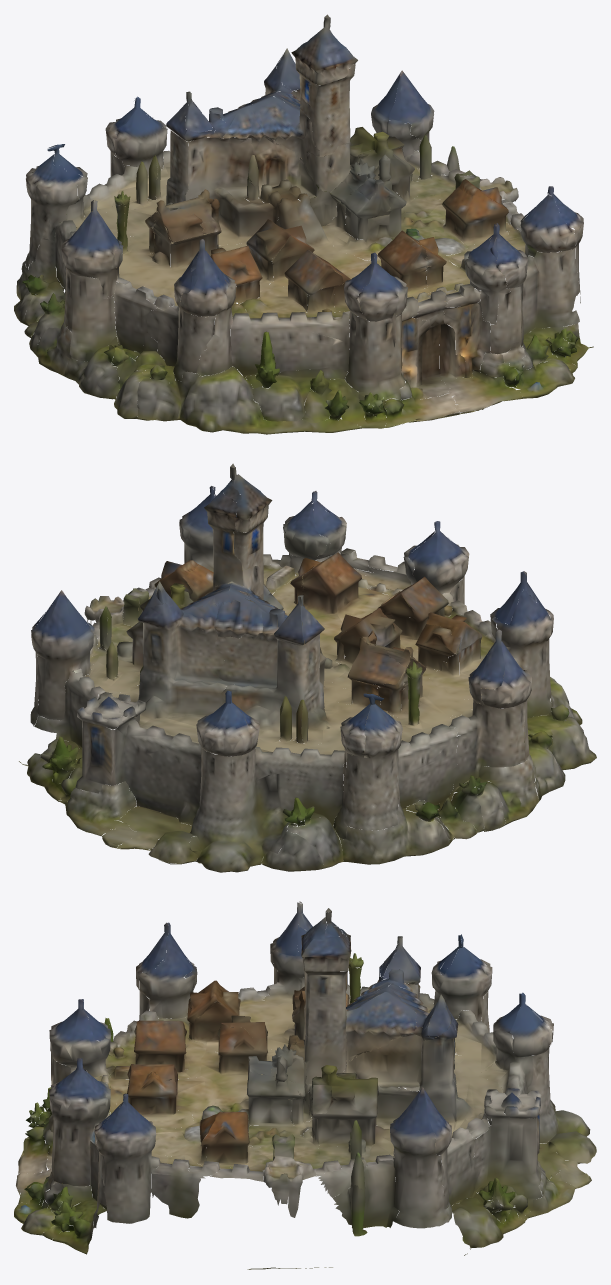
The model's file is PlayerCity_v1.glb.
3 renders of one model, top to bottom at view 1: azimuth 30°, elevation 25°; view 2: azimuth 150°, elevation 25°; view 3: azimuth 270°, elevation 25°, orthographic.
Parts seen in each view (by area): view 1: Eldoria_MultiPiece_Group_05; view 2: Eldoria_MultiPiece_Group_05; view 3: Eldoria_MultiPiece_Group_05.
Part boxes in pixels (x1=…): Eldoria_MultiPiece_Group_05: x1=14, y1=14, x2=593, y2=434; Eldoria_MultiPiece_Group_05: x1=19, y1=463, x2=596, y2=872; Eldoria_MultiPiece_Group_05: x1=14, y1=901, x2=596, y2=1269.
Size of the model in its own units: 0.4179 by 0.2434 by 0.4581.
1 material, 1 textured.
